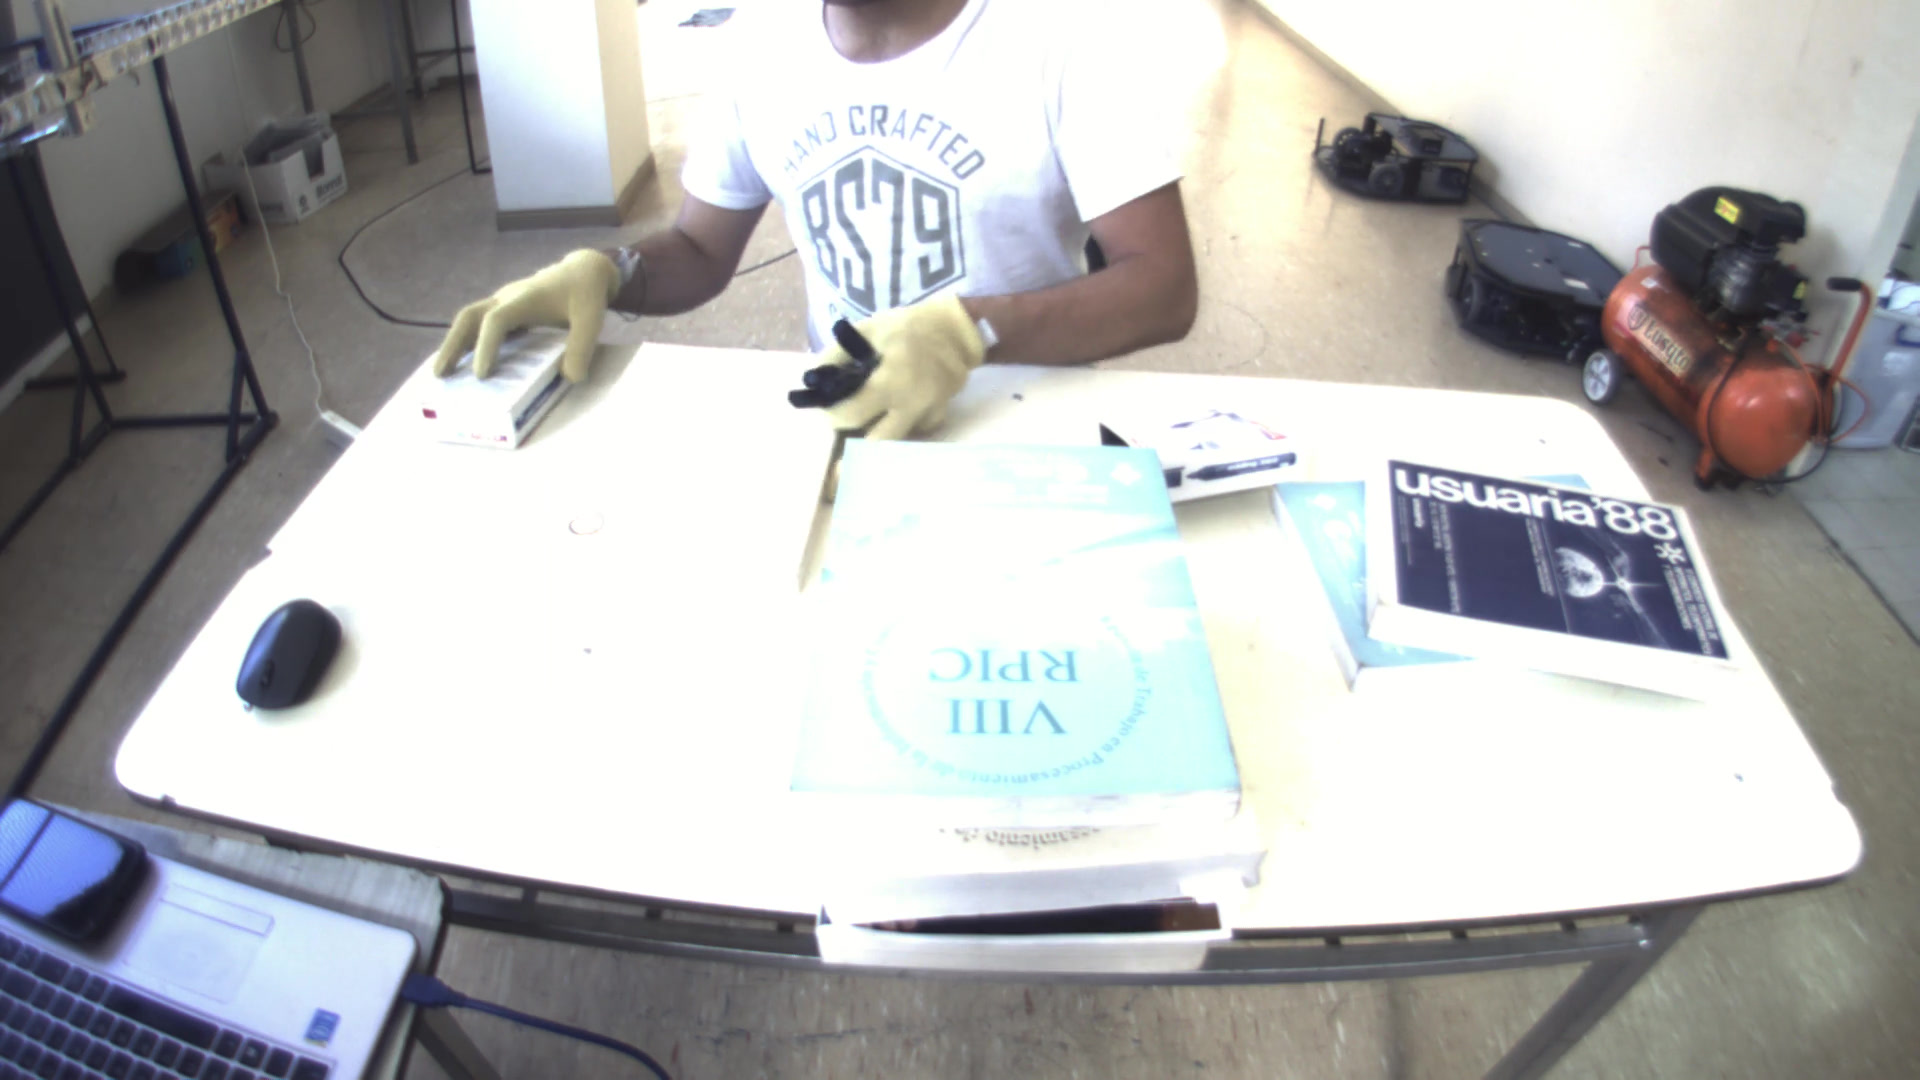hand: (775, 280, 1000, 446), (414, 233, 640, 396)
